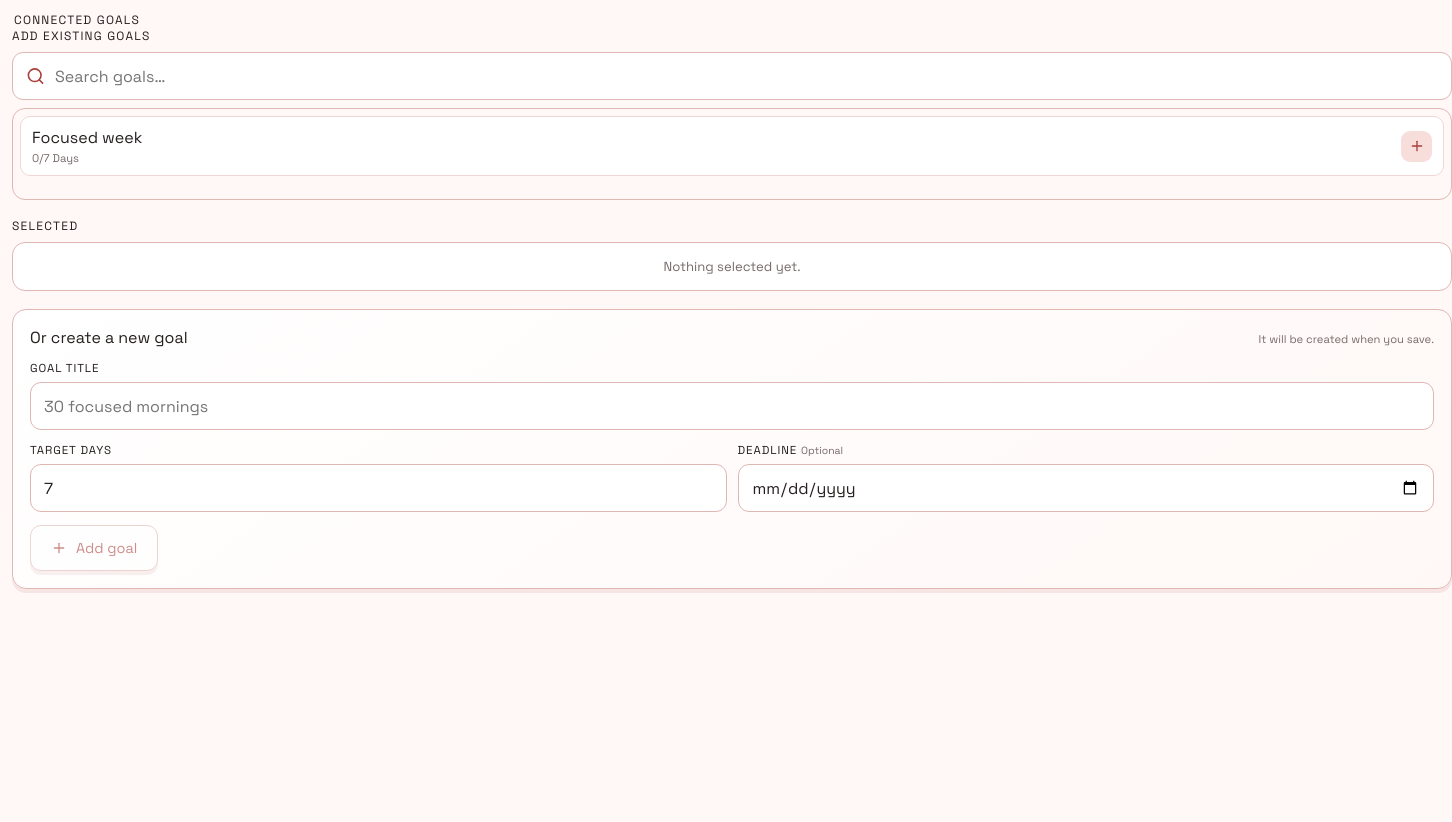
it: relation composer staging › adds the first search result with Enter
The width and height of the screenshot is (1452, 822).
In the field named "Search connected goals": (746, 76) [55,53,1438,99], type "focus"
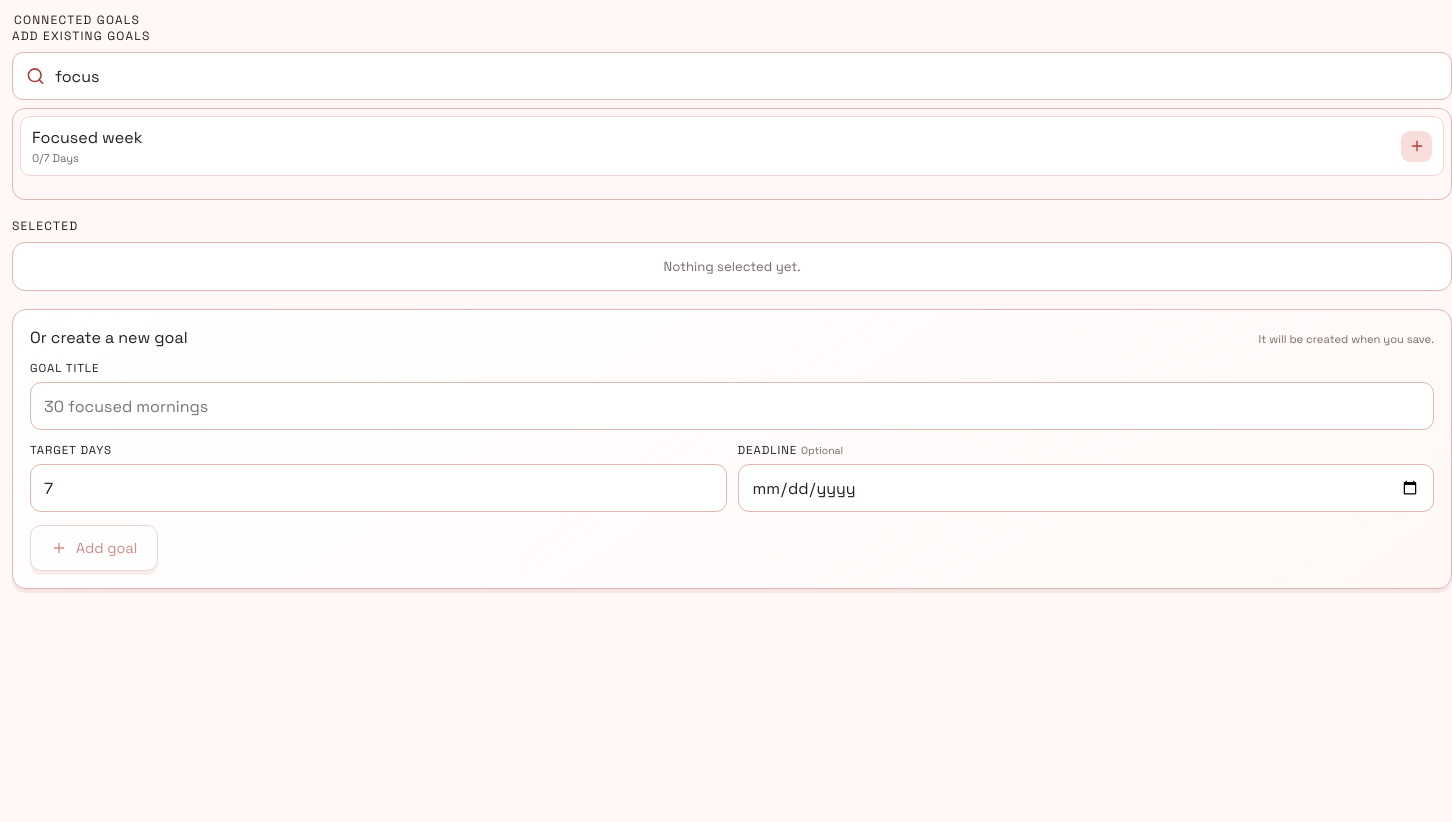
Press Enter in the field named "Search connected goals", box [55,53,1438,99]
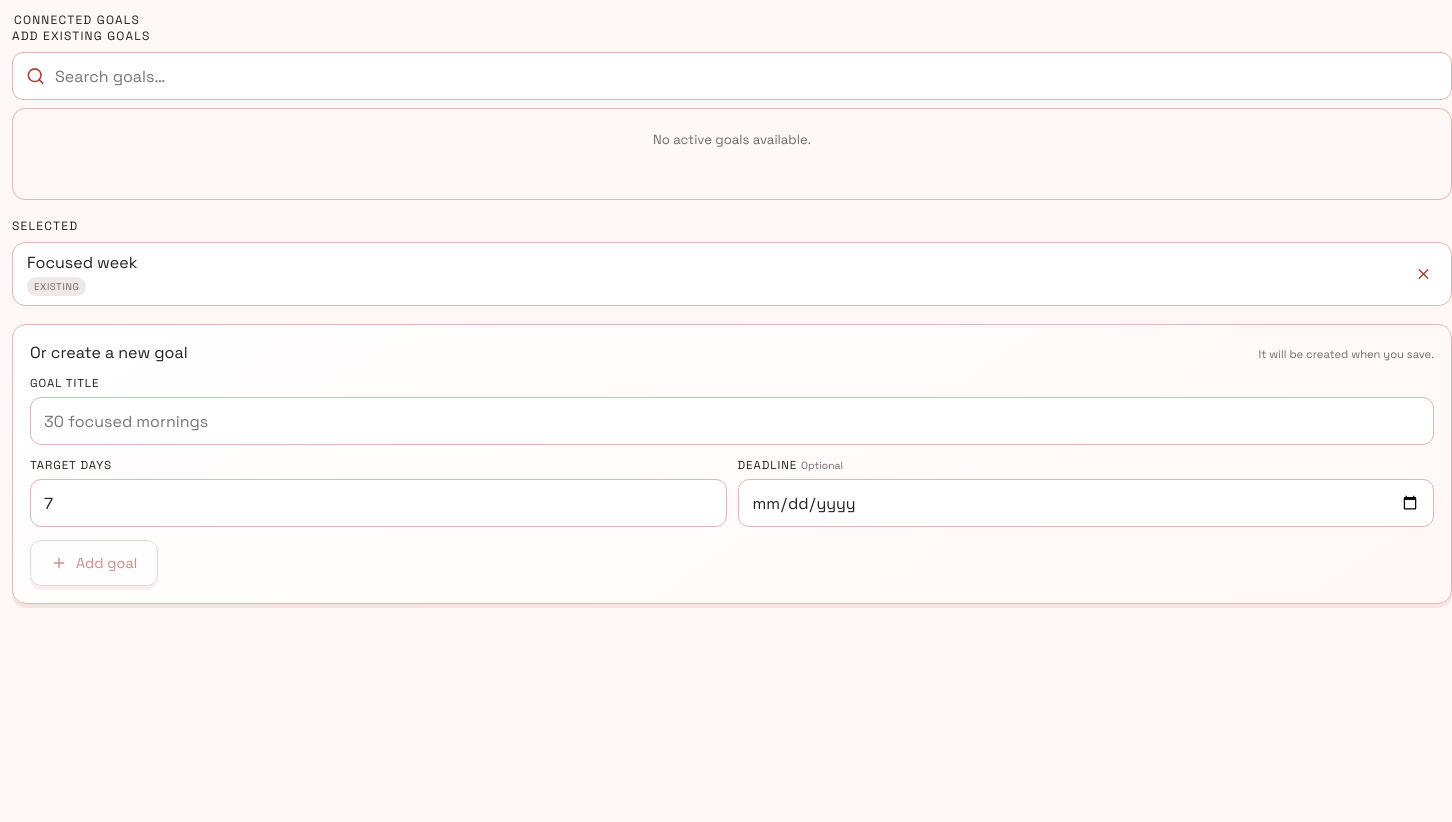
Expected: the text "Focused week" is shown, [27,252,137,273]
Now the text "Existing" is shown, box [27,277,86,296]
